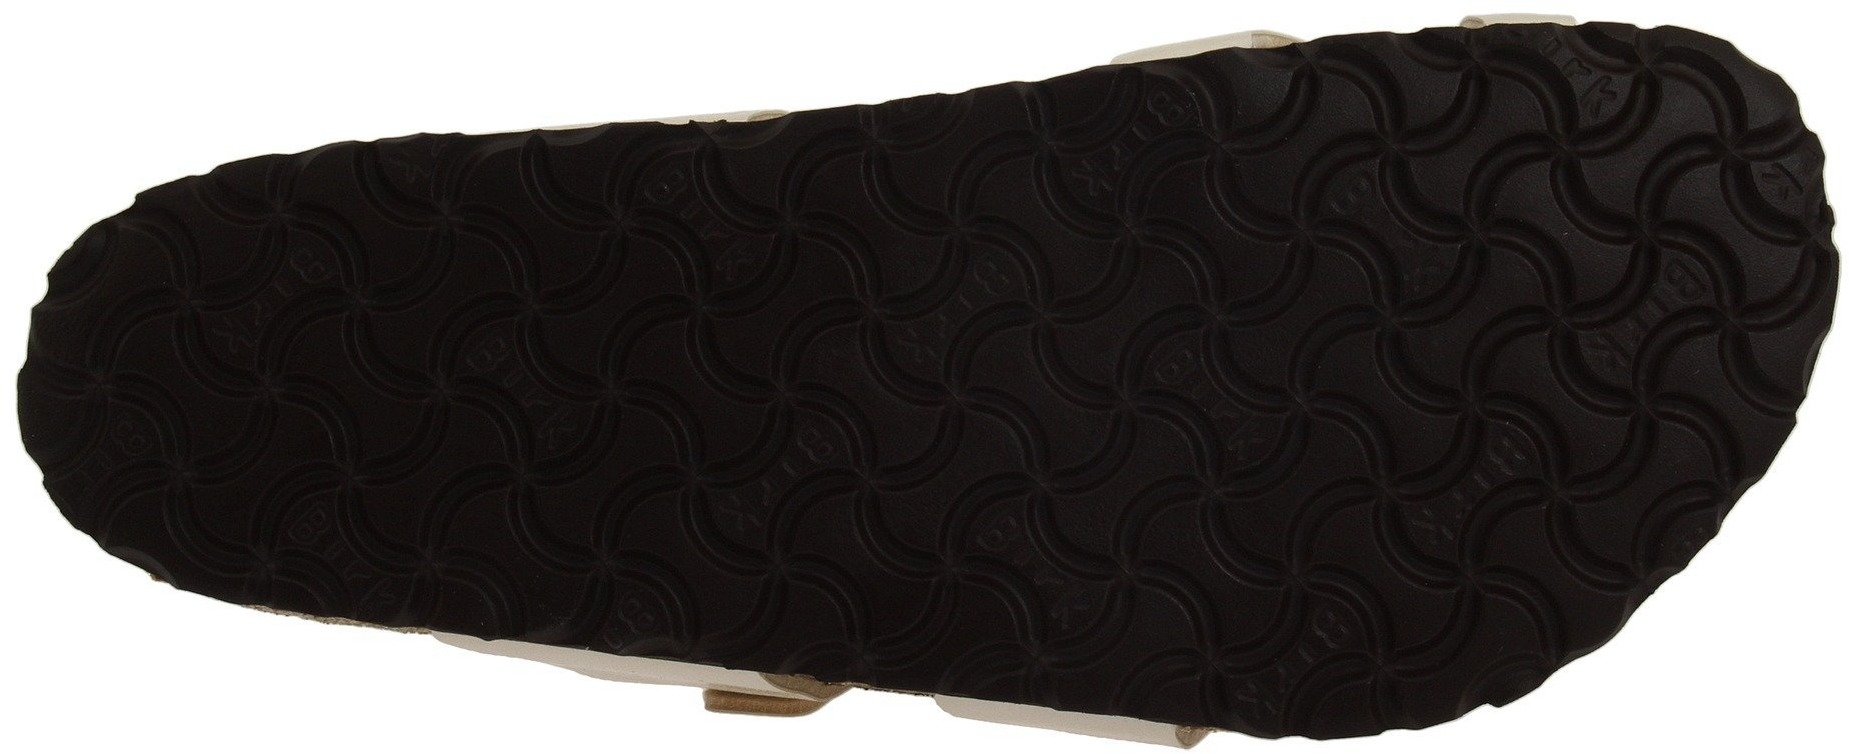bowtie: (1258, 57, 1612, 430), (1265, 435, 1537, 695), (978, 378, 1253, 630), (78, 249, 333, 519), (708, 371, 972, 629), (675, 123, 936, 355), (1616, 152, 1842, 378), (414, 296, 639, 461), (529, 468, 690, 627), (1040, 94, 1245, 215)
text: (708, 371, 972, 629), (414, 296, 639, 461), (1040, 94, 1245, 215)
